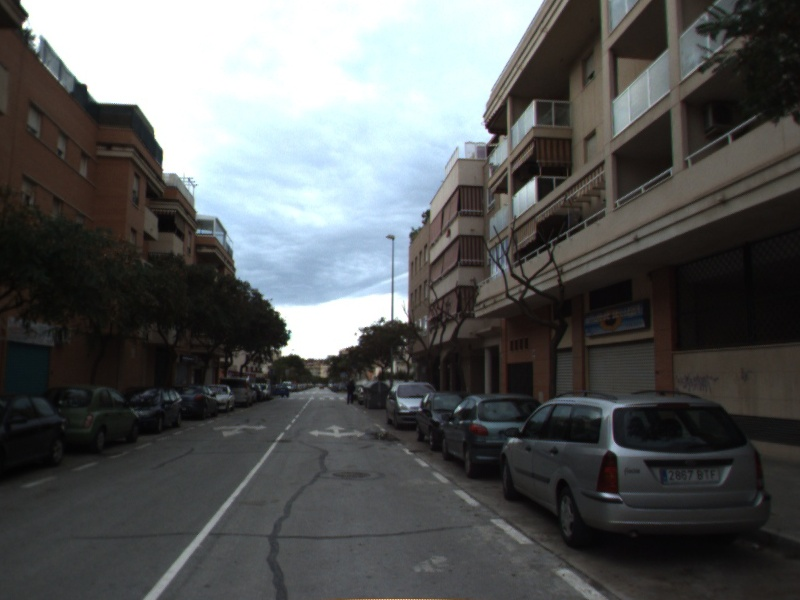STRAIGHT_LEFT_RIGHT: (307, 423, 367, 440)
